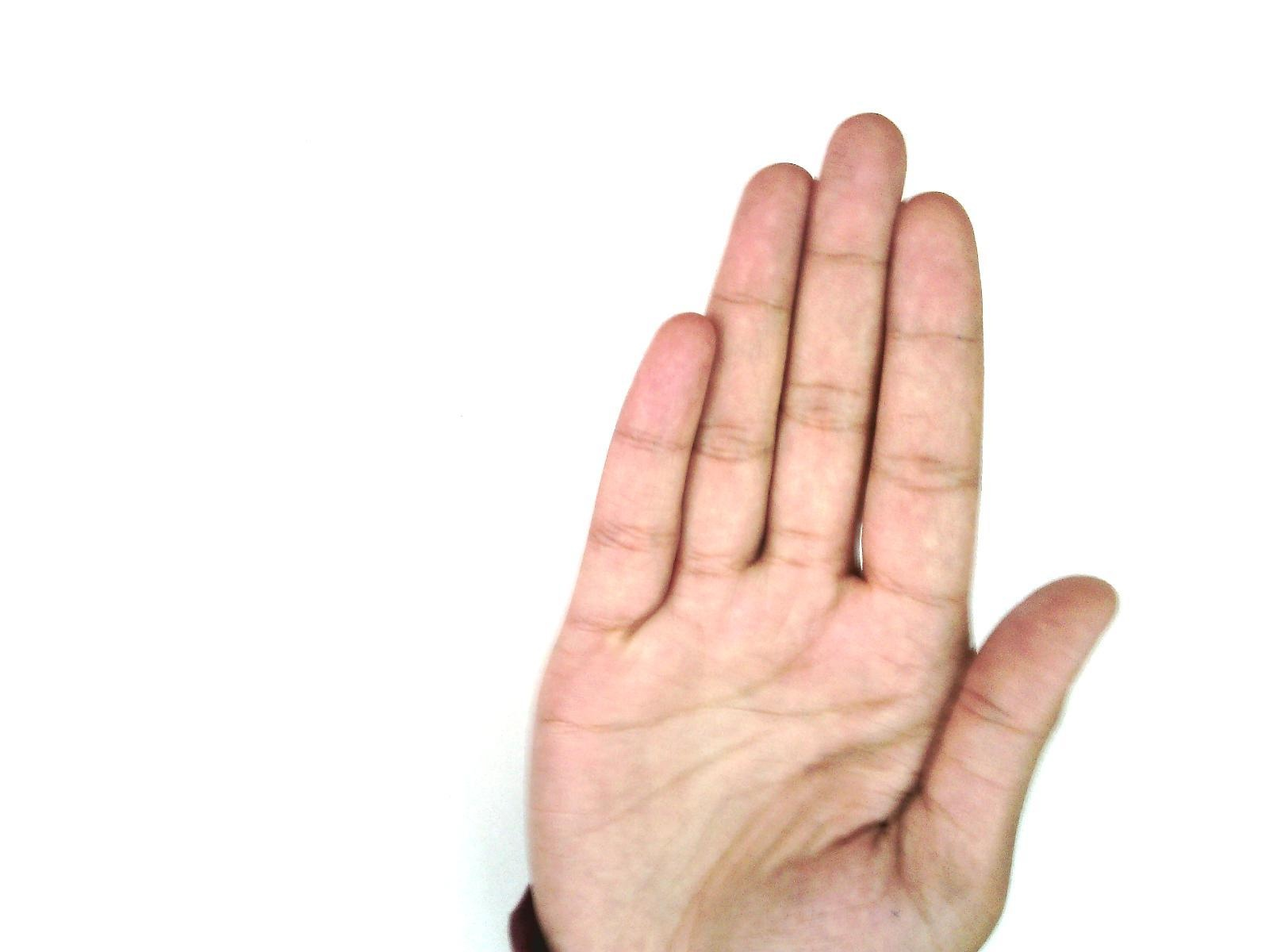open_palm: (514, 112, 1121, 951)
